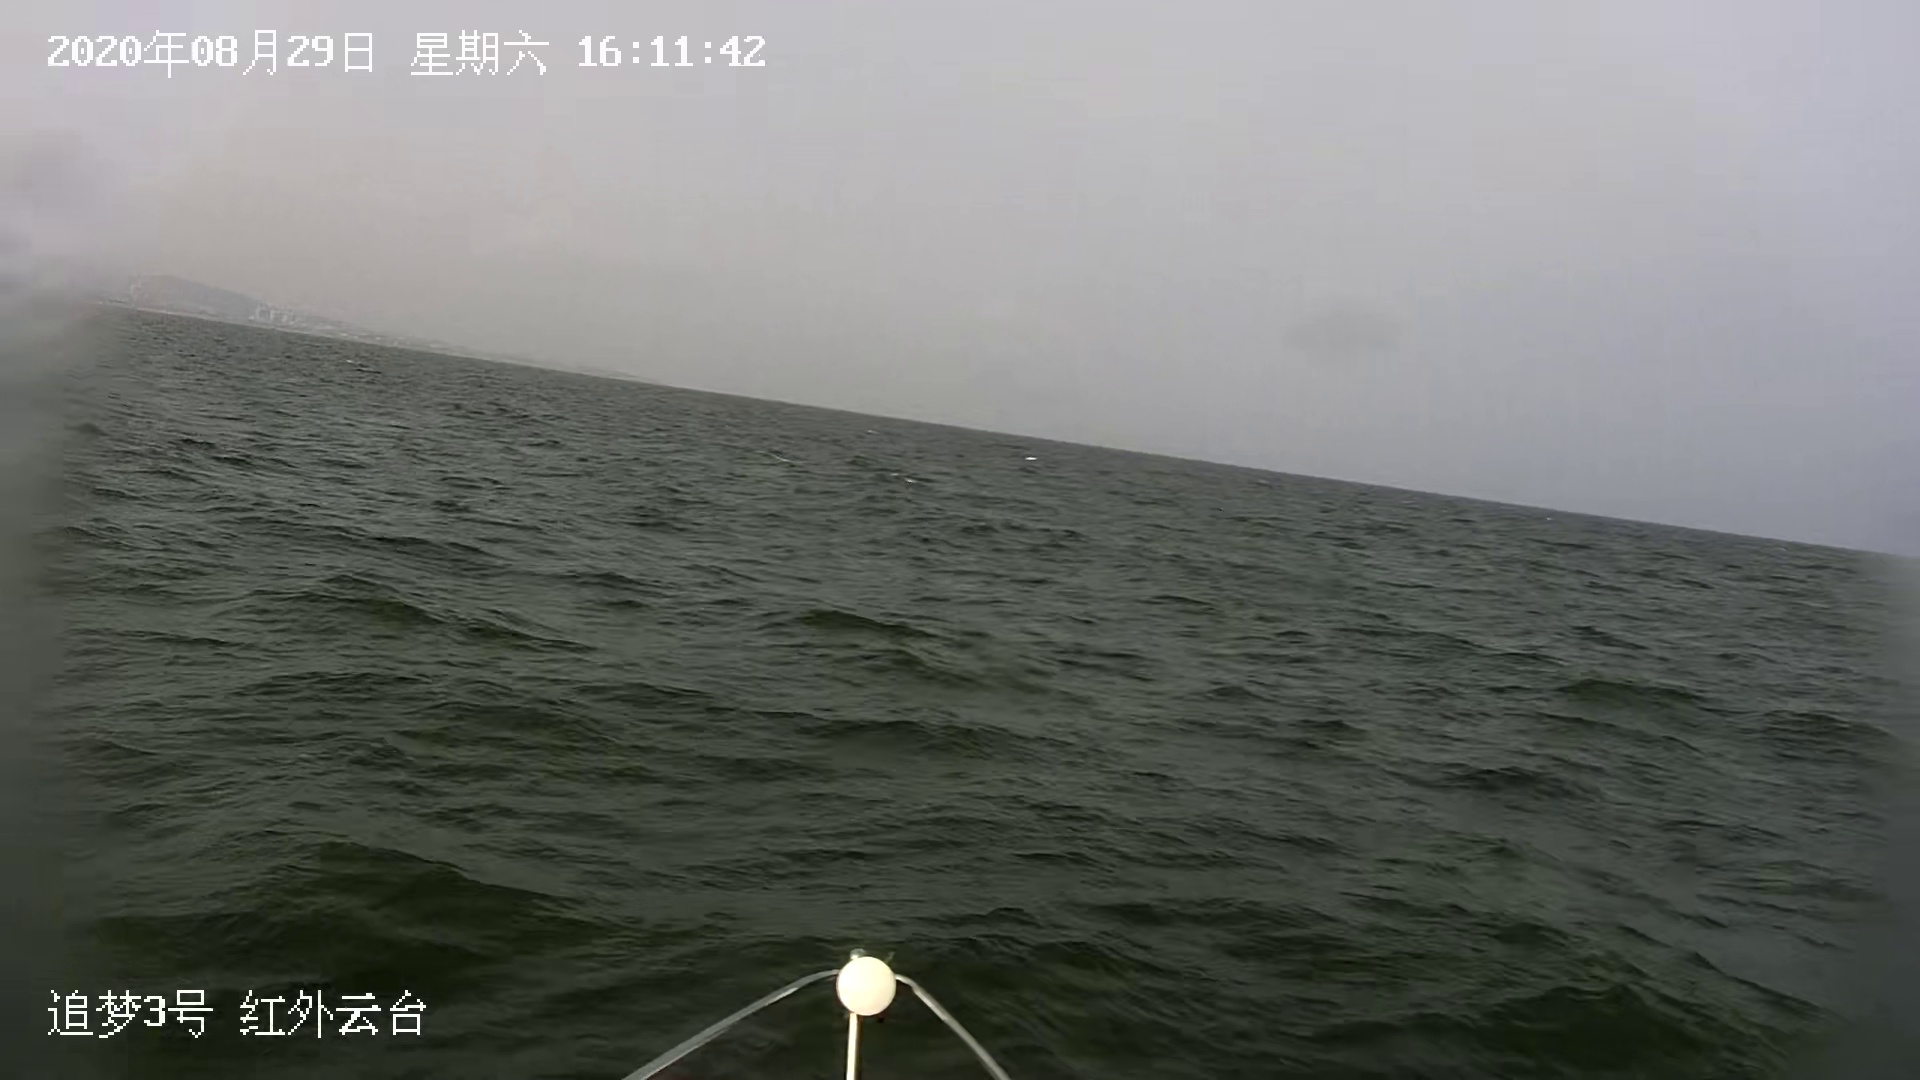coast: (15, 248, 527, 365)
